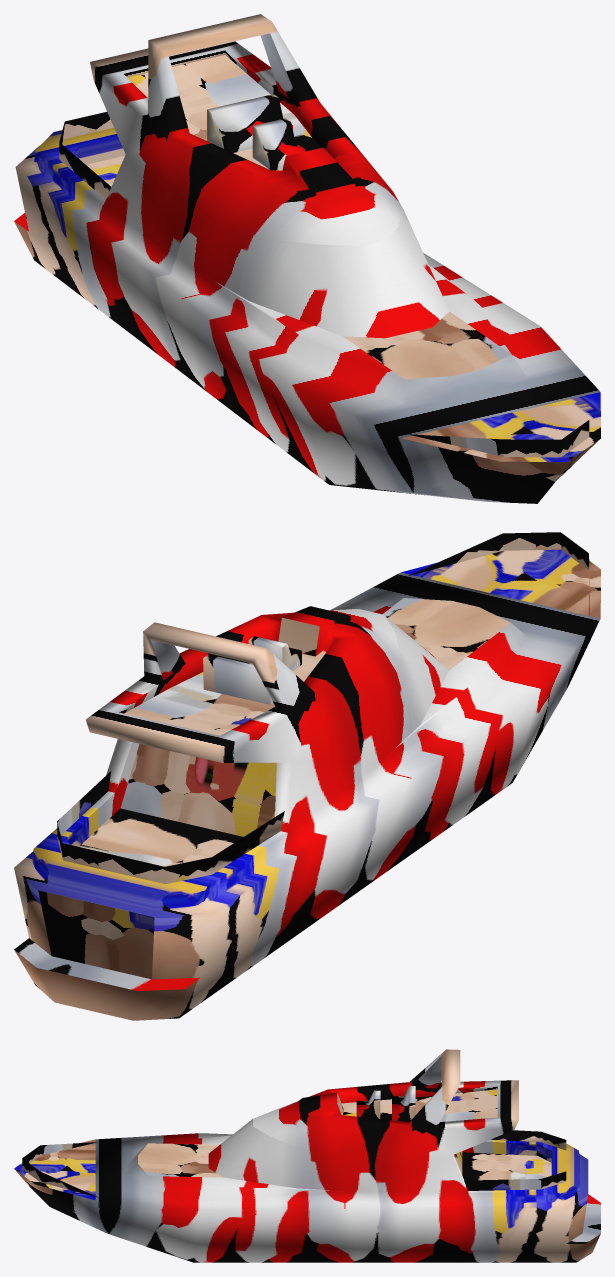
Rendered from boat.obj.
3 views of the same model, one above another, from view 1: azimuth 30°, elevation 25°; view 2: azimuth 150°, elevation 25°; view 3: azimuth 270°, elevation 25° (orthographic). The views are drawn at different scales.
Parts seen in each view (by area): view 1: Cruiser; view 2: Cruiser; view 3: Cruiser.
Part boxes in pixels (bbox=[...]): Cruiser: bbox=[14, 14, 600, 503]; Cruiser: bbox=[14, 532, 600, 1020]; Cruiser: bbox=[14, 1049, 600, 1262].
Size of the model in its own units: 7.97 by 8.77 by 26.51.
